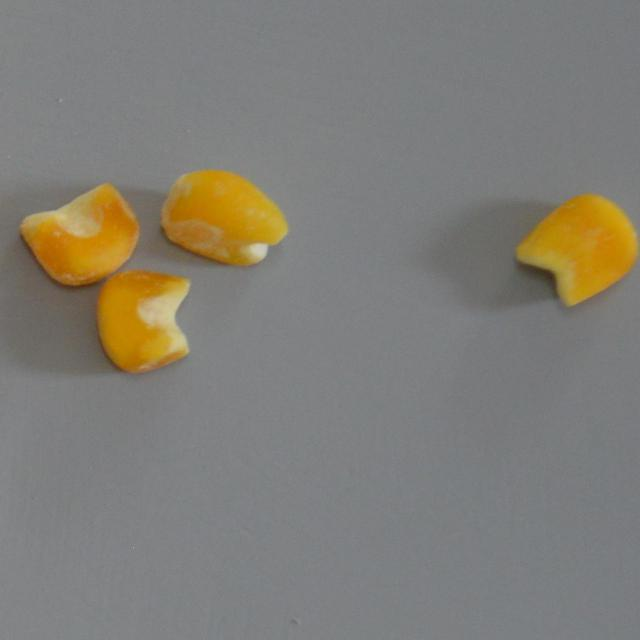no_canjicado: (516, 192, 637, 307)
pelicula: (162, 168, 288, 271), (18, 182, 140, 286), (97, 269, 190, 376)
